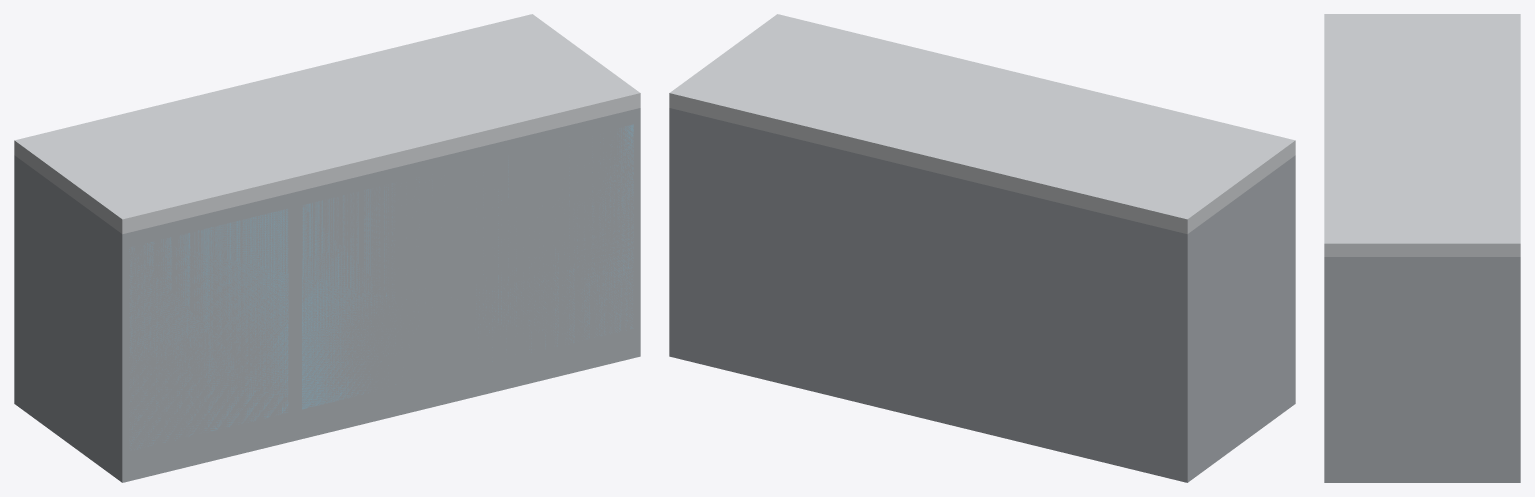
Rendered from back_bar_cooler_3door_72.glb.
3 renders of one model, left to right at view 1: azimuth 30°, elevation 25°; view 2: azimuth 150°, elevation 25°; view 3: azimuth 270°, elevation 25°, orthographic. The views are drawn at different scales.
Bounding box in the file's own units: 1.83 × 0.889 × 0.6604.
